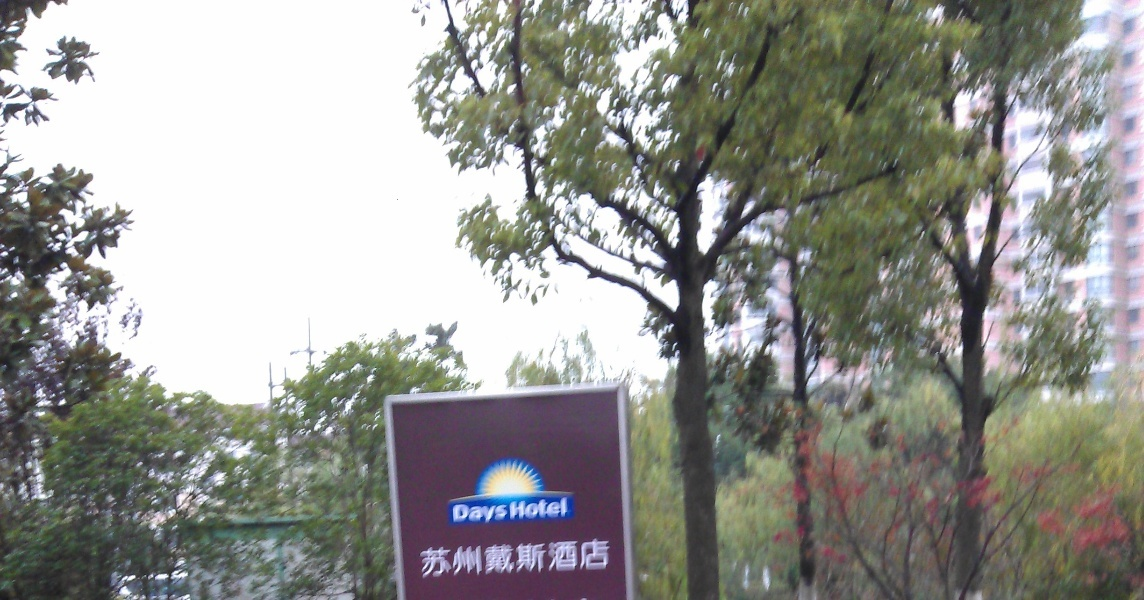text: (433, 537, 448, 580), (449, 537, 464, 580), (465, 537, 480, 580), (481, 537, 496, 580), (497, 537, 512, 580), (513, 537, 528, 580), (529, 537, 544, 580), (545, 537, 560, 580), (561, 537, 576, 580), (577, 537, 592, 580), (593, 537, 608, 580), (418, 537, 432, 580), (513, 497, 528, 522), (529, 497, 544, 522), (545, 497, 560, 522), (465, 501, 480, 525), (481, 501, 496, 525), (452, 501, 464, 525), (497, 501, 508, 525), (561, 497, 571, 522), (609, 537, 612, 580), (508, 497, 512, 522)
